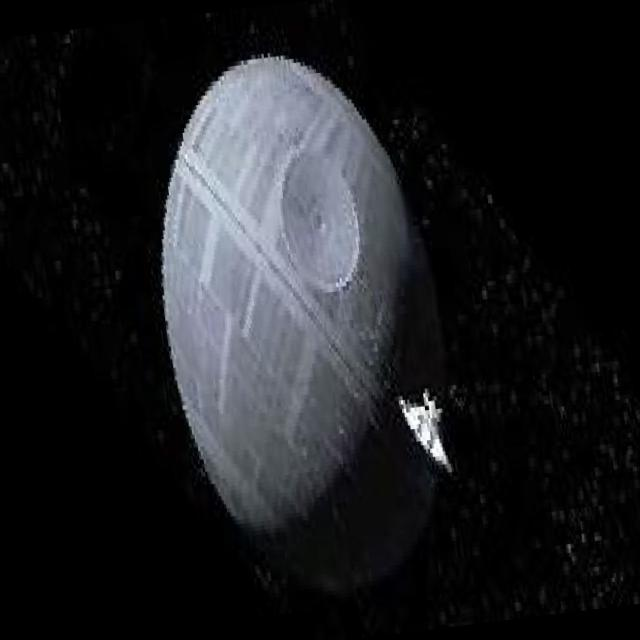Death Star: (119, 36, 462, 608)
